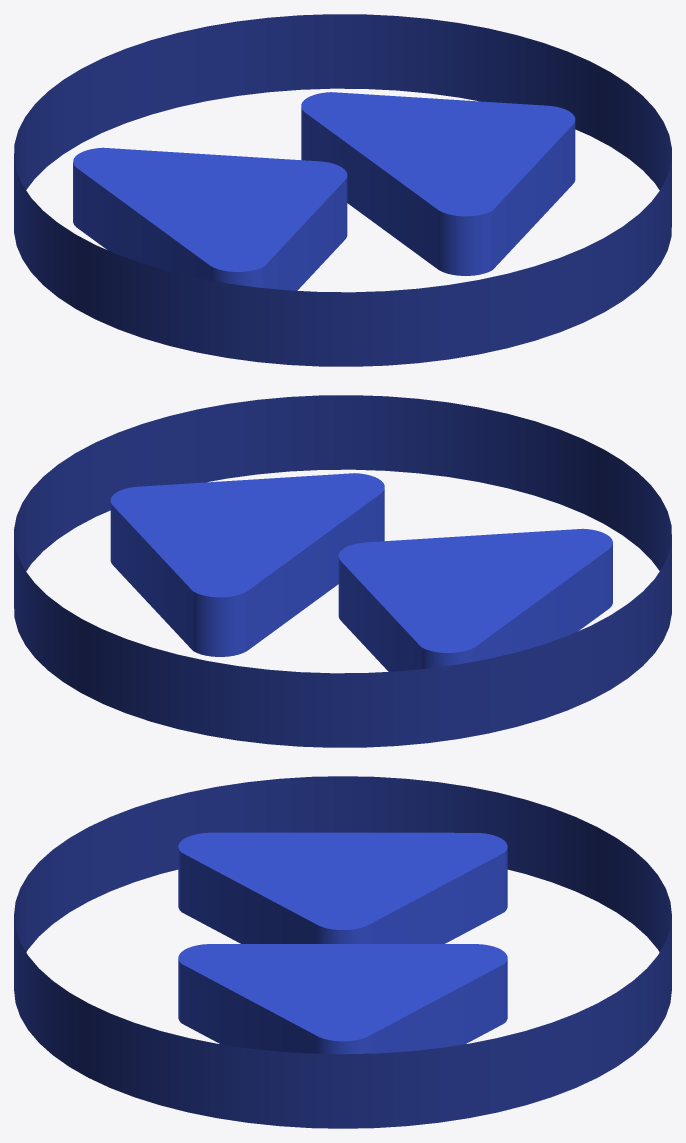
File: knockback_trap_r2.obj
3 views of the same model, one above another, from view 1: azimuth 30°, elevation 25°; view 2: azimuth 150°, elevation 25°; view 3: azimuth 270°, elevation 25° (orthographic).
Parts seen in each view (by area): view 1: pushtrap_r1; view 2: pushtrap_r1; view 3: pushtrap_r1.
Part boxes in pixels (left/top/right/bottom): pushtrap_r1: left=14, top=14, right=671, bottom=366; pushtrap_r1: left=14, top=395, right=671, bottom=747; pushtrap_r1: left=14, top=776, right=671, bottom=1128.
Size of the model in its own units: 2 by 0.25 by 2.
